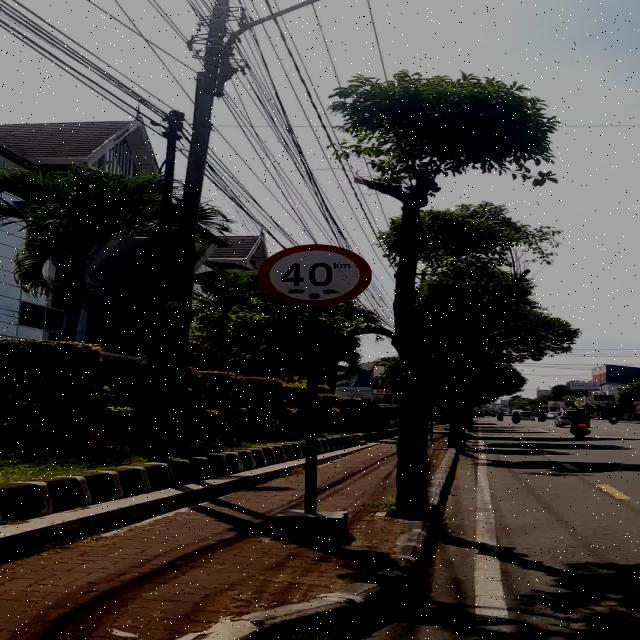Kecepatan Maks. 40 km: (258, 244, 372, 307)
